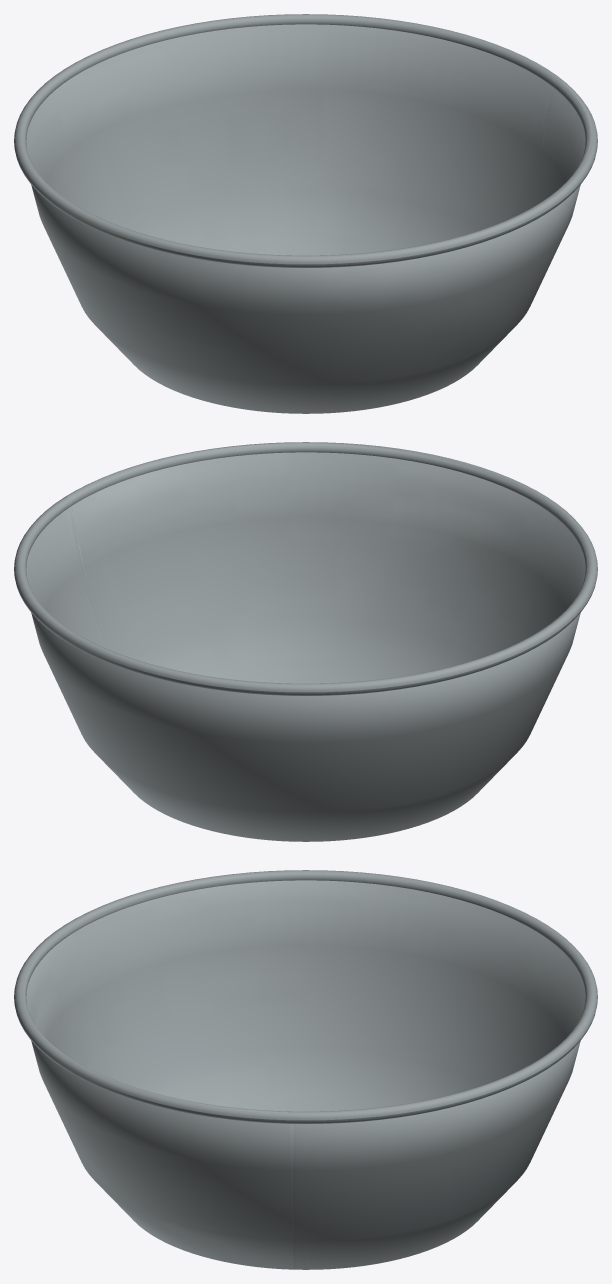
File: cookware__dish_middle_metal_bowl.glb
The picture shows the model from 3 angles, top to bottom: view 1: azimuth 30°, elevation 25°; view 2: azimuth 150°, elevation 25°; view 3: azimuth 270°, elevation 25°; orthographic projection.
Visible parts, largest first — view 1: vessel; view 2: vessel; view 3: vessel.
Boxes of the visible parts, bbox=[...] form: vessel: bbox=[14, 14, 597, 413]; vessel: bbox=[14, 442, 597, 841]; vessel: bbox=[14, 870, 597, 1269].
Bounding box in the file's own units: 0.1226 × 0.0503 × 0.1226.
1 material, 1 textured.
